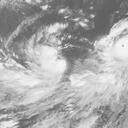cyclone: (25, 21, 87, 82), (100, 22, 127, 71)
